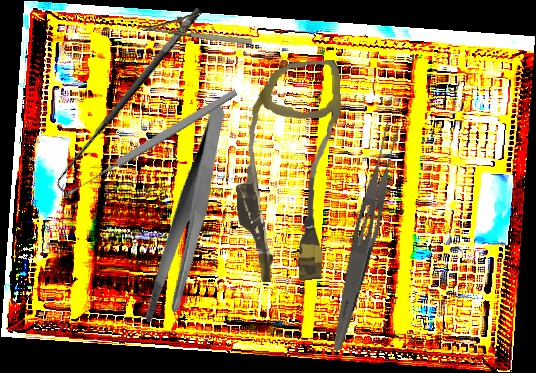Cannula: (229, 59, 351, 284)
Dressing Forceps: (98, 100, 281, 334), (327, 118, 406, 356)
Hook Surgical: (46, 5, 217, 200)
Needle Holder: (139, 3, 256, 48)
Surgical Spoon: (65, 87, 239, 198)
